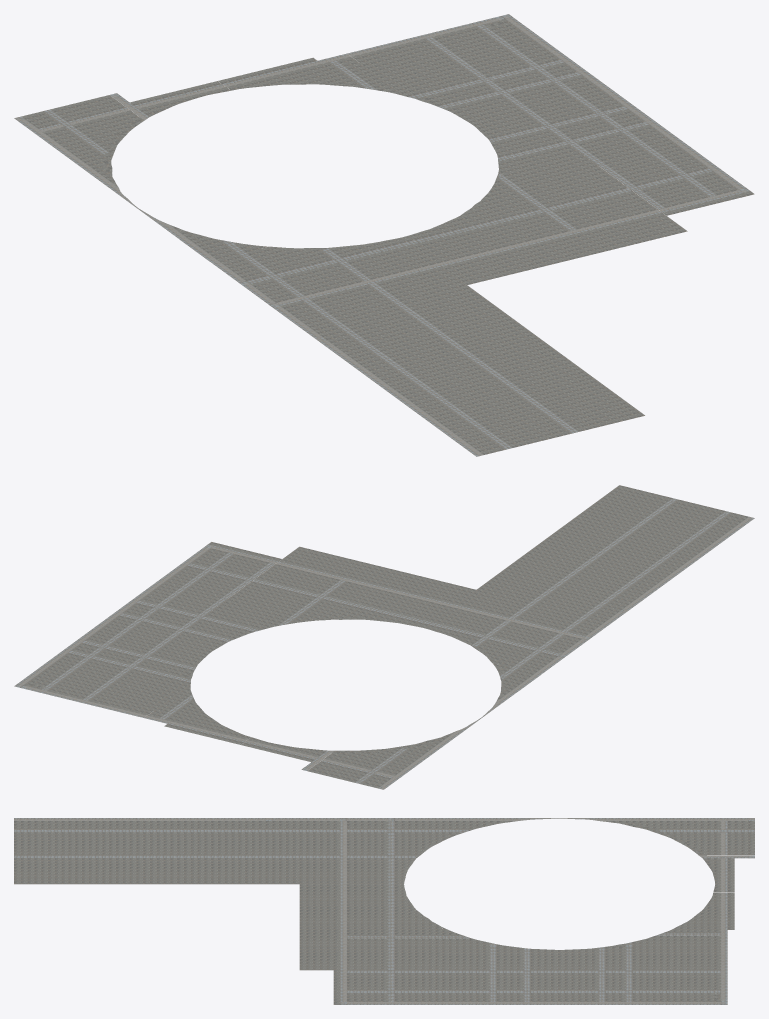
Rendered from Ground06_PisoMastil_AchavalRodriguez02.fbx.
3 renders of one model, top to bottom at view 1: azimuth 30°, elevation 25°; view 2: azimuth 150°, elevation 25°; view 3: azimuth 270°, elevation 25°, orthographic. The views are drawn at different scales.
Parts seen in each view (by area): view 1: concrete_Plaza_Achaval05, concrete_Plaza_Achaval01, concrete_Plaza_Achaval03, concrete_Plaza_Achaval04, concrete_Plaza_Achaval02; view 2: concrete_Plaza_Achaval05, concrete_Plaza_Achaval01, concrete_Plaza_Achaval03, concrete_Plaza_Achaval04, concrete_Plaza_Achaval02; view 3: concrete_Plaza_Achaval05, concrete_Plaza_Achaval01, concrete_Plaza_Achaval03, concrete_Plaza_Achaval04, concrete_Plaza_Achaval02.
Part boxes in pixels (x1,y1,x2,y2): concrete_Plaza_Achaval05: (362,14,754,229); concrete_Plaza_Achaval01: (298,285,644,456); concrete_Plaza_Achaval03: (137,149,607,310); concrete_Plaza_Achaval04: (14,50,437,208); concrete_Plaza_Achaval02: (277,216,687,326); concrete_Plaza_Achaval05: (14,542,329,714); concrete_Plaza_Achaval01: (476,485,754,622); concrete_Plaza_Achaval03: (241,570,594,717); concrete_Plaza_Achaval04: (132,670,481,789); concrete_Plaza_Achaval02: (283,546,611,635); concrete_Plaza_Achaval05: (333,946,727,1004); concrete_Plaza_Achaval01: (14,818,299,884); concrete_Plaza_Achaval03: (333,818,557,947); concrete_Plaza_Achaval04: (558,818,754,947); concrete_Plaza_Achaval02: (299,818,333,970).
Bounding box in the file's own units: 65.02 × 0.00328 × 109.
